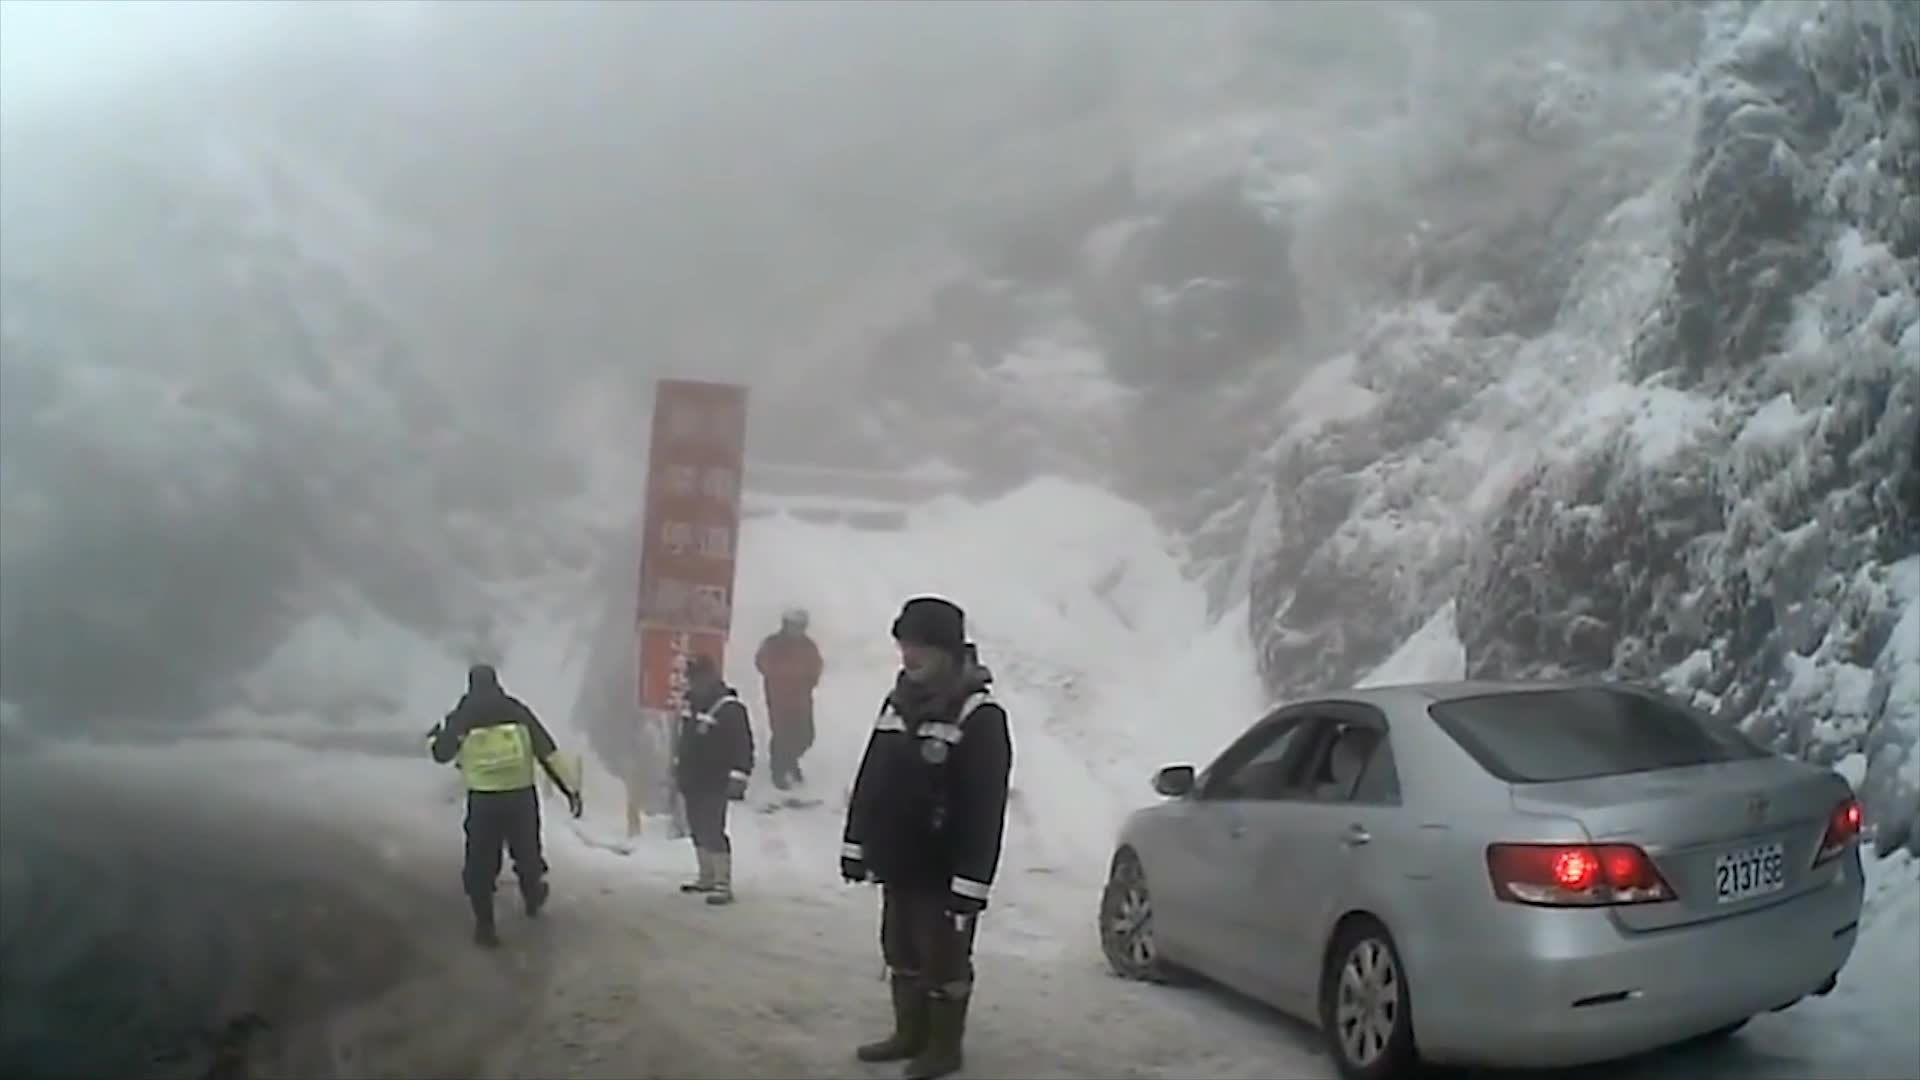pedestrian: (839, 593, 1015, 1079), (426, 667, 591, 947), (671, 651, 755, 903), (758, 602, 825, 788)
vehicle: (1098, 679, 1868, 1080)
